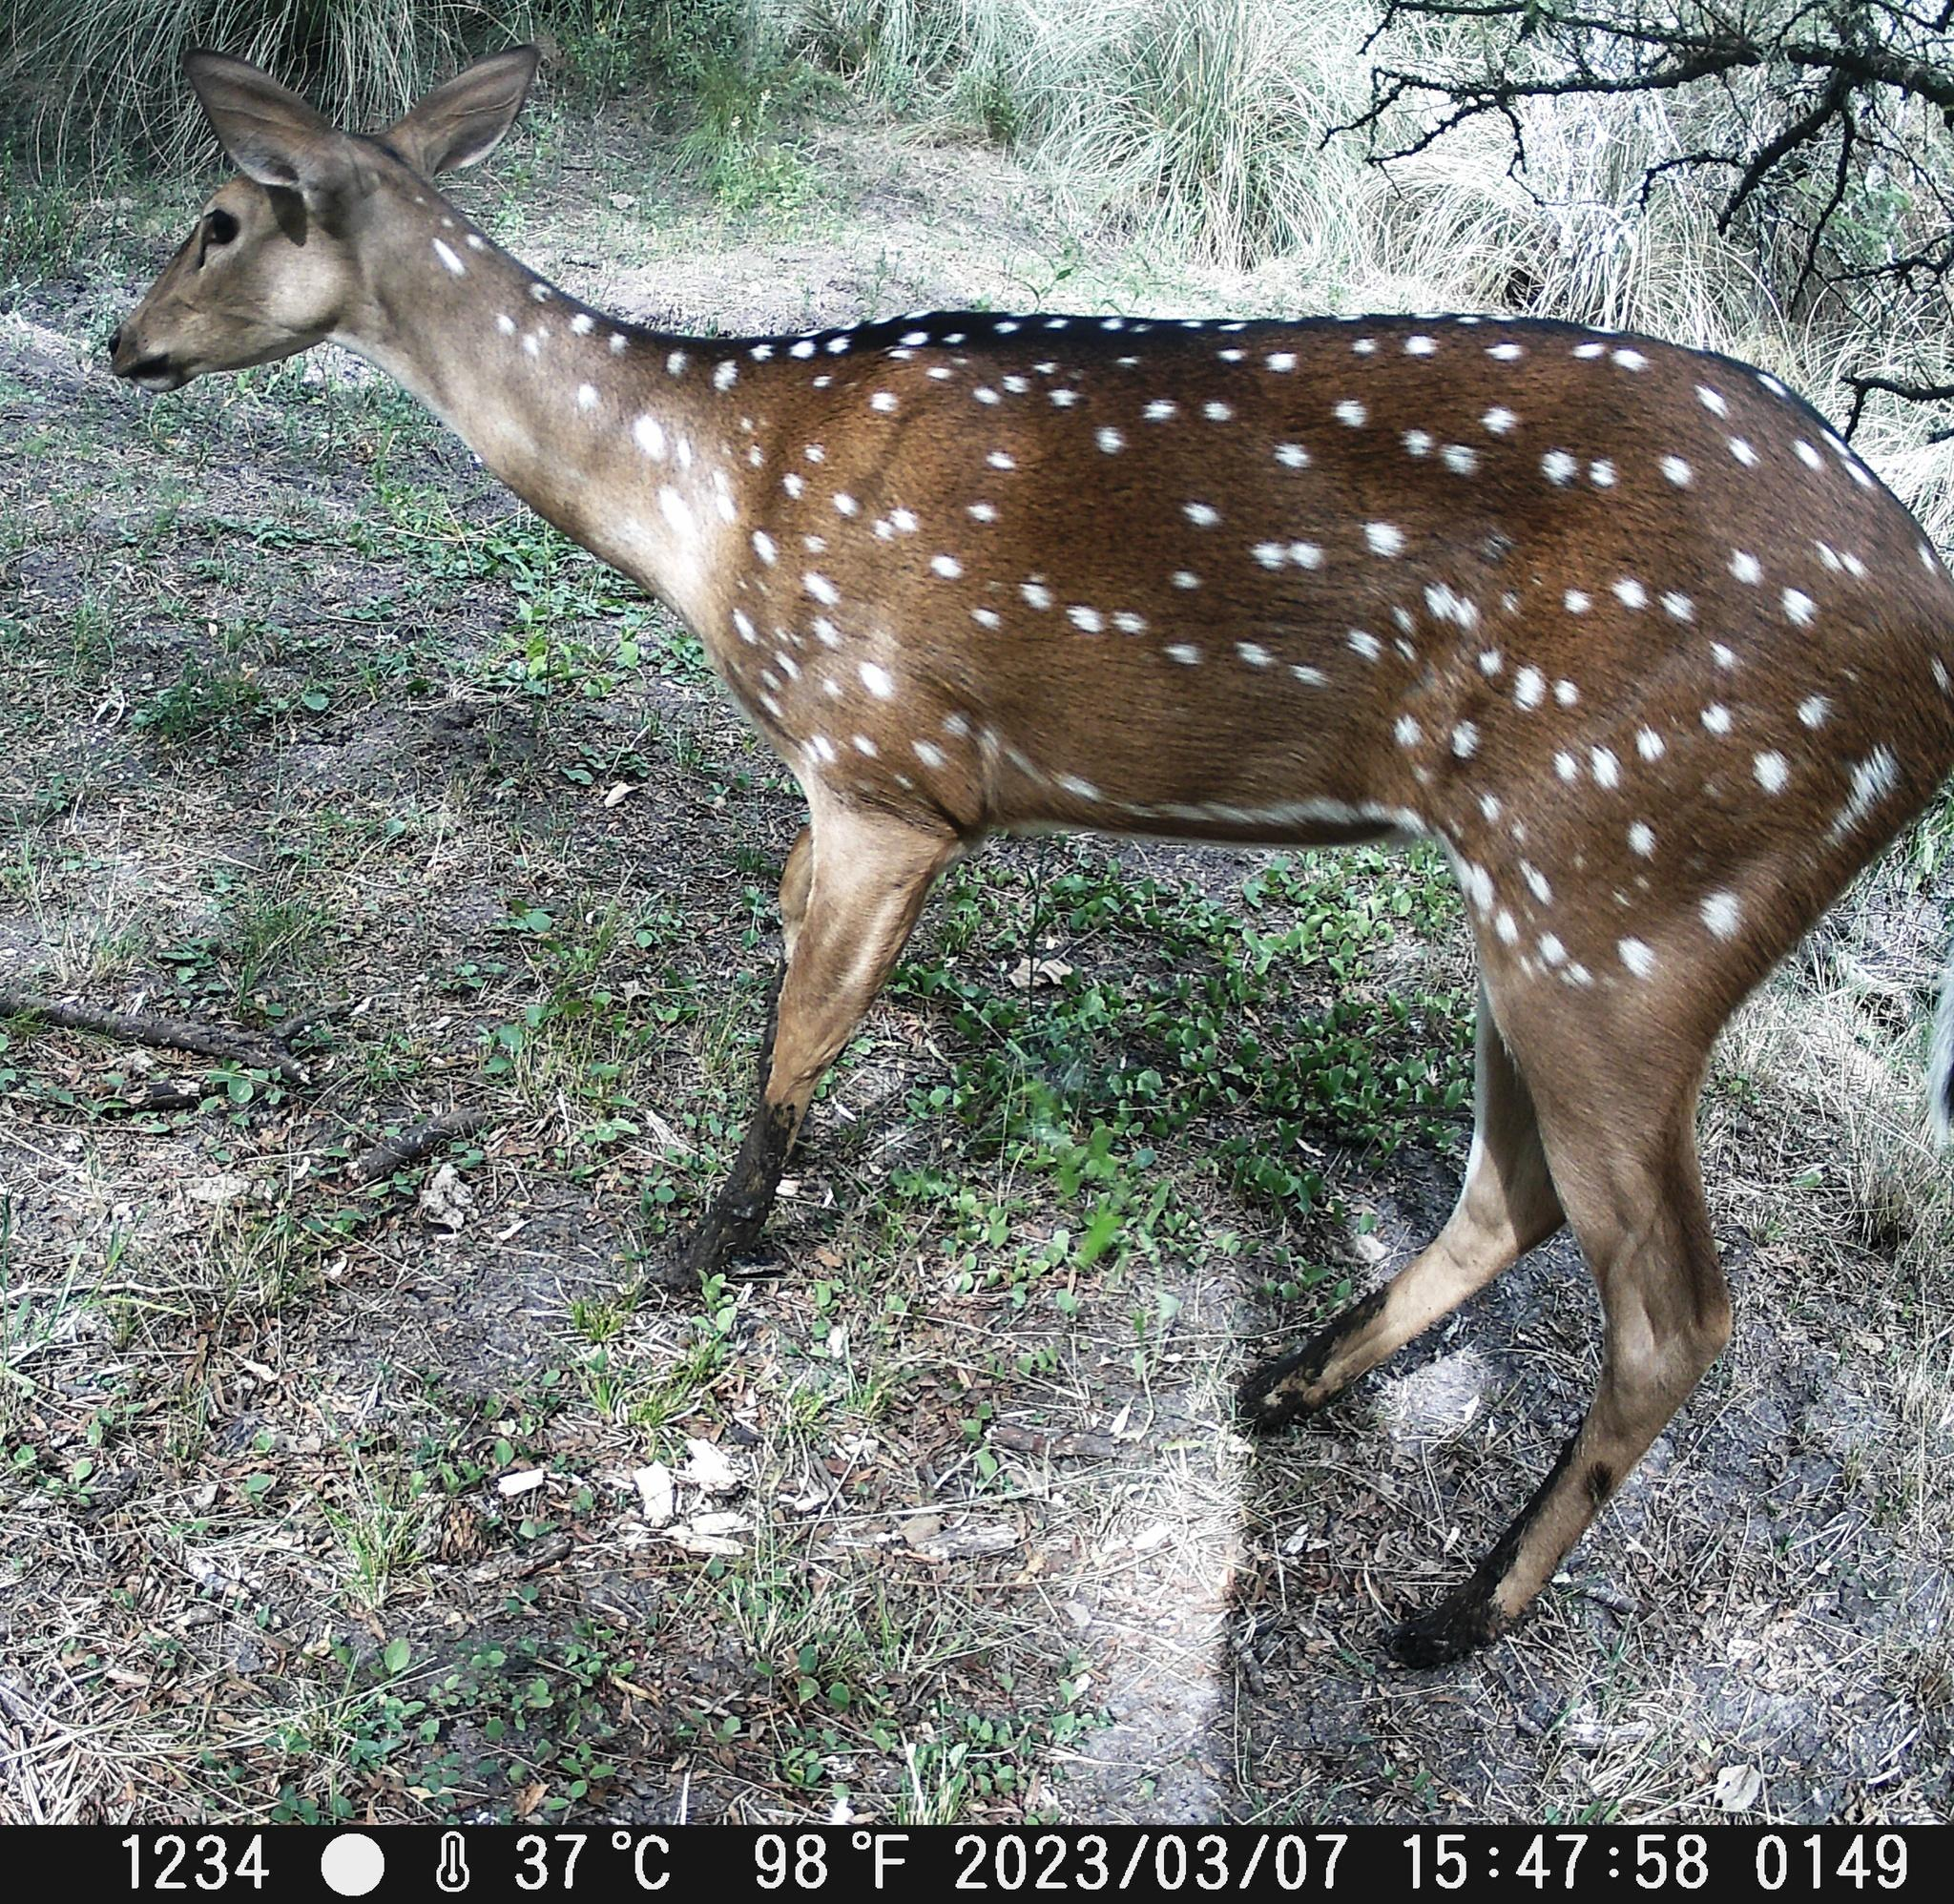Deer: (110, 45, 1952, 1665)
